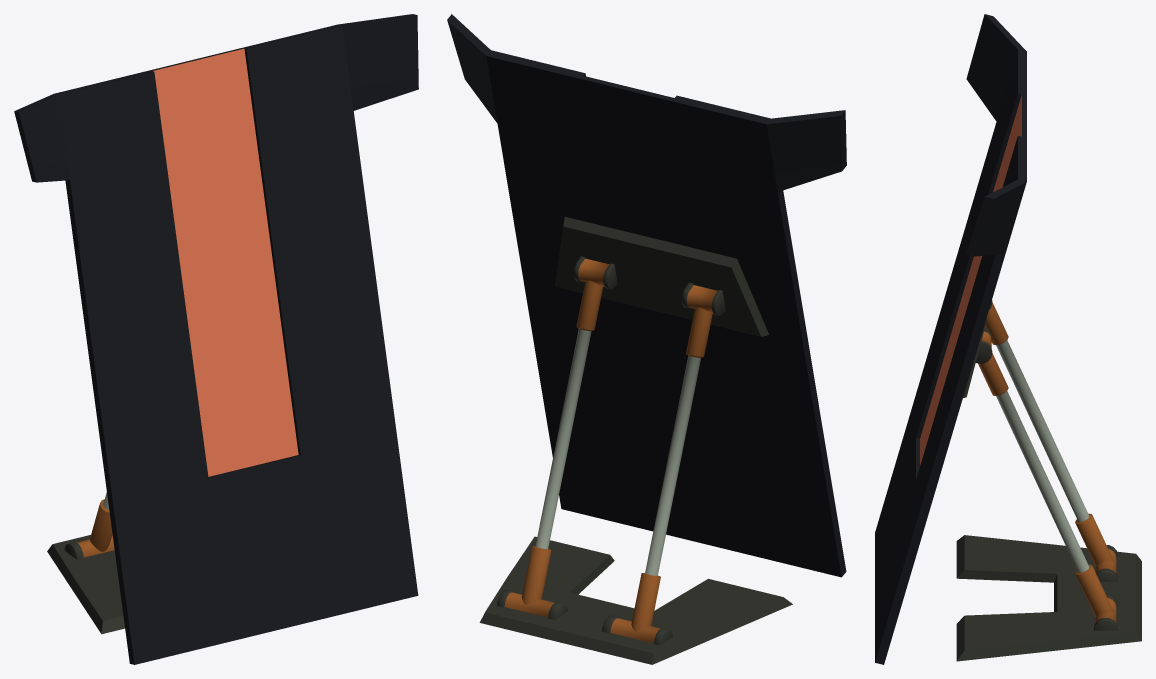
Rendered from entrance_wall.fbx.
The picture shows the model from 3 angles, left to right: view 1: azimuth 30°, elevation 25°; view 2: azimuth 150°, elevation 25°; view 3: azimuth 270°, elevation 25°; orthographic projection. The views are drawn at different scales.
Parts seen in each view (by area): view 1: Entrance_wall; view 2: Entrance_wall; view 3: Entrance_wall.
Boxes of the visible parts, x1,y1,x2,y2 form: Entrance_wall: (14,14,418,664); Entrance_wall: (447,14,846,664); Entrance_wall: (875,14,1141,664).
Size of the model in its own units: 970 by 1228 by 599.
